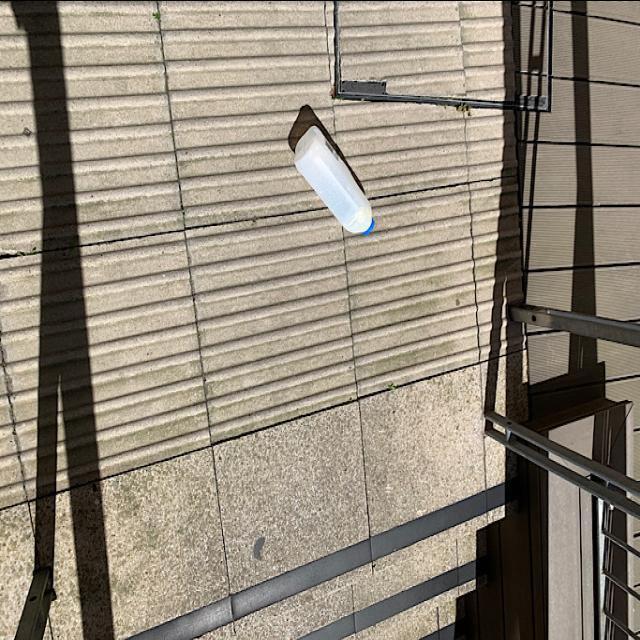HDPEM: (292, 128, 380, 238)
